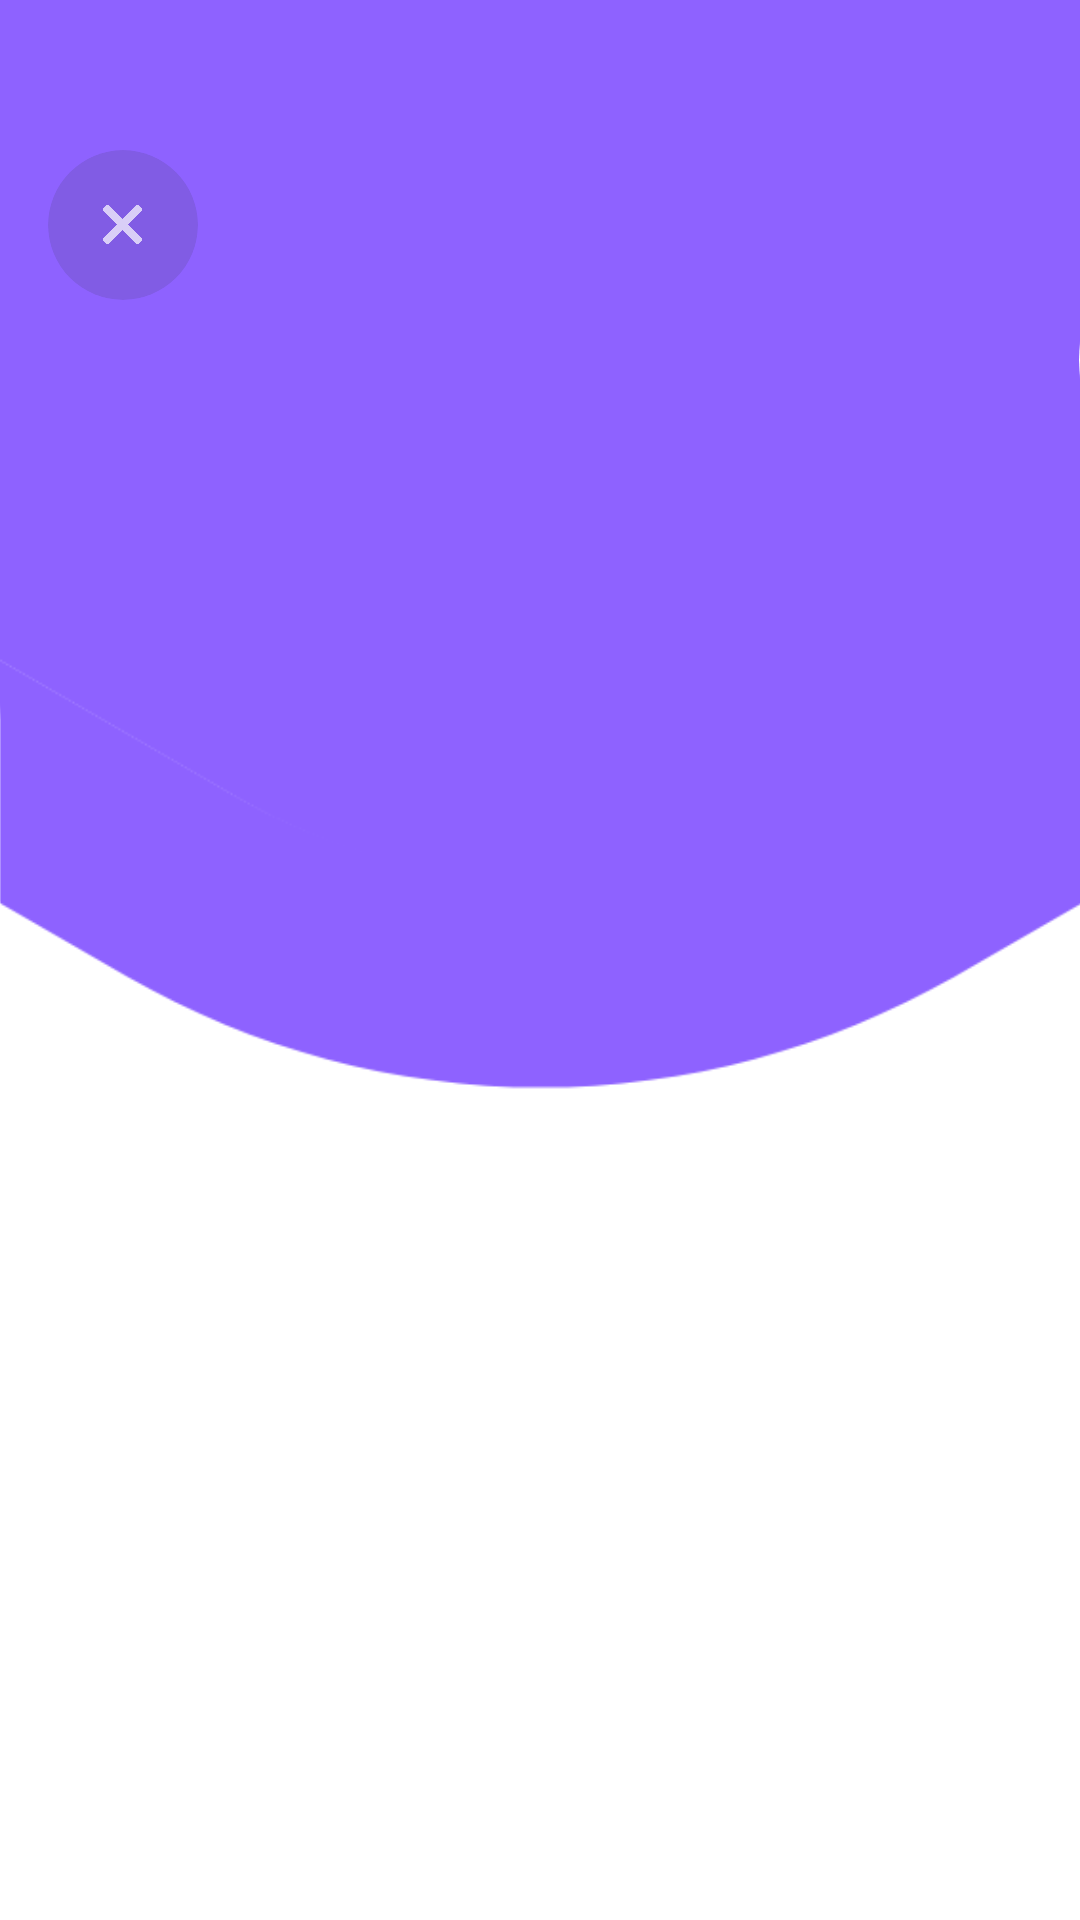

Icon click points for this 1080px×1920px phone screenshot, format point (x, y):
times: point (122, 224)
